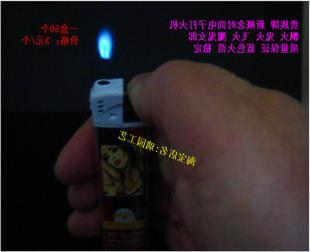fire: (91, 33, 117, 66)
